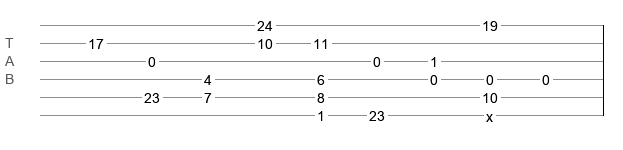0: (148, 54, 156, 64), (373, 54, 381, 64), (430, 72, 438, 82), (486, 72, 494, 82), (542, 72, 550, 82)
1: (317, 108, 325, 118), (430, 54, 438, 64)
10: (257, 36, 273, 46), (482, 90, 498, 100)
11: (313, 36, 329, 46)
17: (88, 36, 104, 46)
19: (482, 18, 498, 28)
23: (144, 90, 160, 100), (369, 108, 385, 118)
24: (257, 18, 273, 28)
4: (204, 72, 212, 82)
6: (317, 72, 325, 82)
7: (204, 90, 212, 100)
8: (317, 90, 325, 100)
x: (486, 109, 493, 117)
